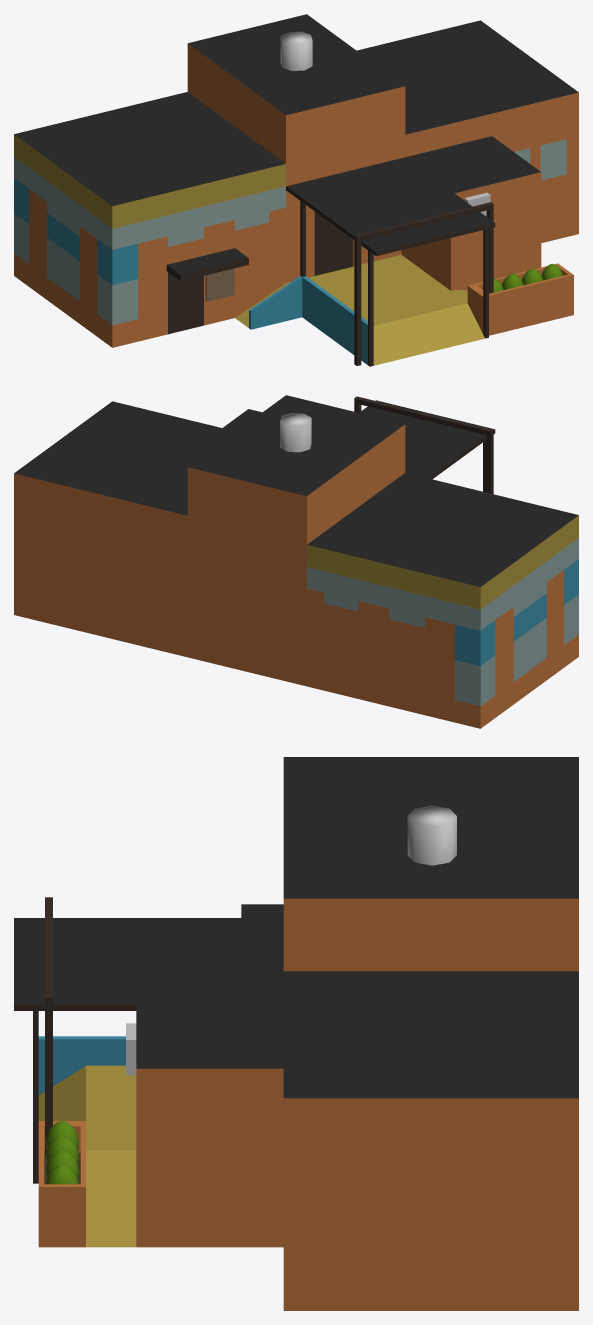
The model's file is Kirjasto.fbx.
The picture shows the model from 3 angles, top to bottom: view 1: azimuth 30°, elevation 25°; view 2: azimuth 150°, elevation 25°; view 3: azimuth 270°, elevation 25°; orthographic projection. The views are drawn at different scales.
Visible parts, largest first — view 1: pCube12; view 2: pCube12; view 3: pCube12.
Part boxes in pixels (left/top/right/bottom): pCube12: left=14, top=14, right=578, bottom=366; pCube12: left=14, top=395, right=578, bottom=728; pCube12: left=14, top=757, right=578, bottom=1310.
Bounding box in the file's own units: 10340 × 4589 × 7232.
